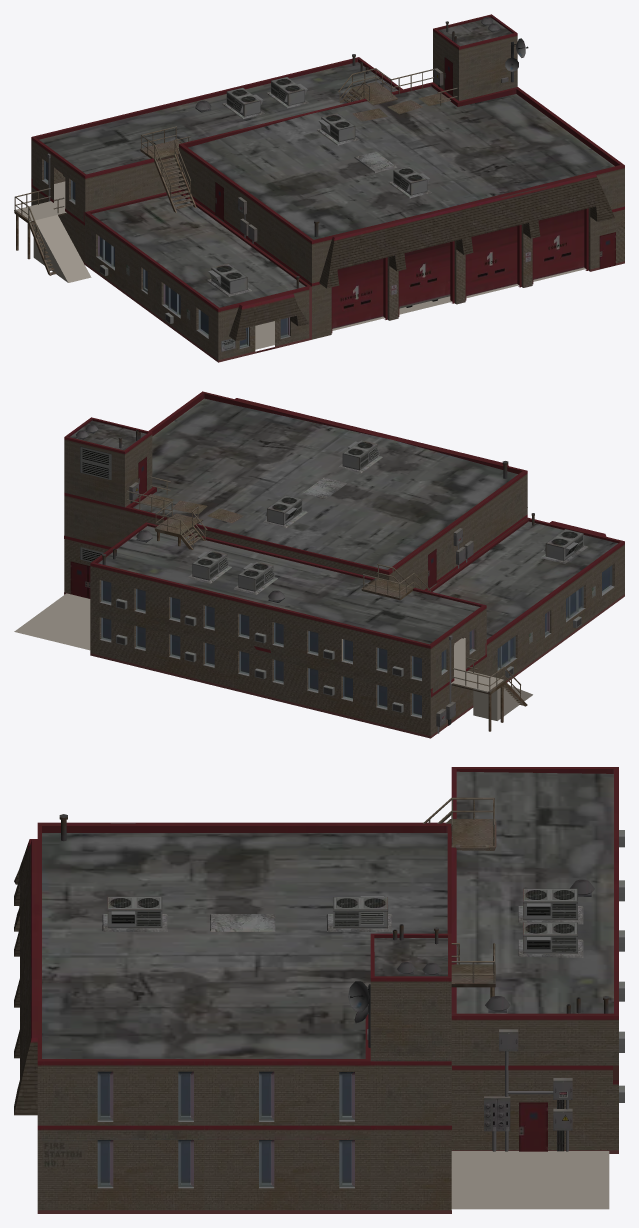
The model's file is fire-station.walls-v2.lod1.glb.
3 views of the same model, one above another, from view 1: azimuth 30°, elevation 25°; view 2: azimuth 150°, elevation 25°; view 3: azimuth 270°, elevation 25° (orthographic). The views are drawn at different scales.
Visible parts, largest first — view 1: LOD0_Material #65_0, Walkable floors and stairs; view 2: LOD0_Material #65_0, Walkable floors and stairs; view 3: LOD0_Material #65_0, Walkable floors and stairs.
Boxes of the visible parts, left/top/right/bottom form: LOD0_Material #65_0: left=14, top=14, right=624, bottom=362; Walkable floors and stairs: left=16, top=181, right=585, bottom=349; LOD0_Material #65_0: left=64, top=391, right=624, bottom=738; Walkable floors and stairs: left=14, top=593, right=532, bottom=720; LOD0_Material #65_0: left=14, top=767, right=624, bottom=1213; Walkable floors and stairs: left=451, top=1151, right=609, bottom=1209.
Size of the model in its own units: 31.27 by 10.57 by 23.61.
2 materials, 1 textured.
